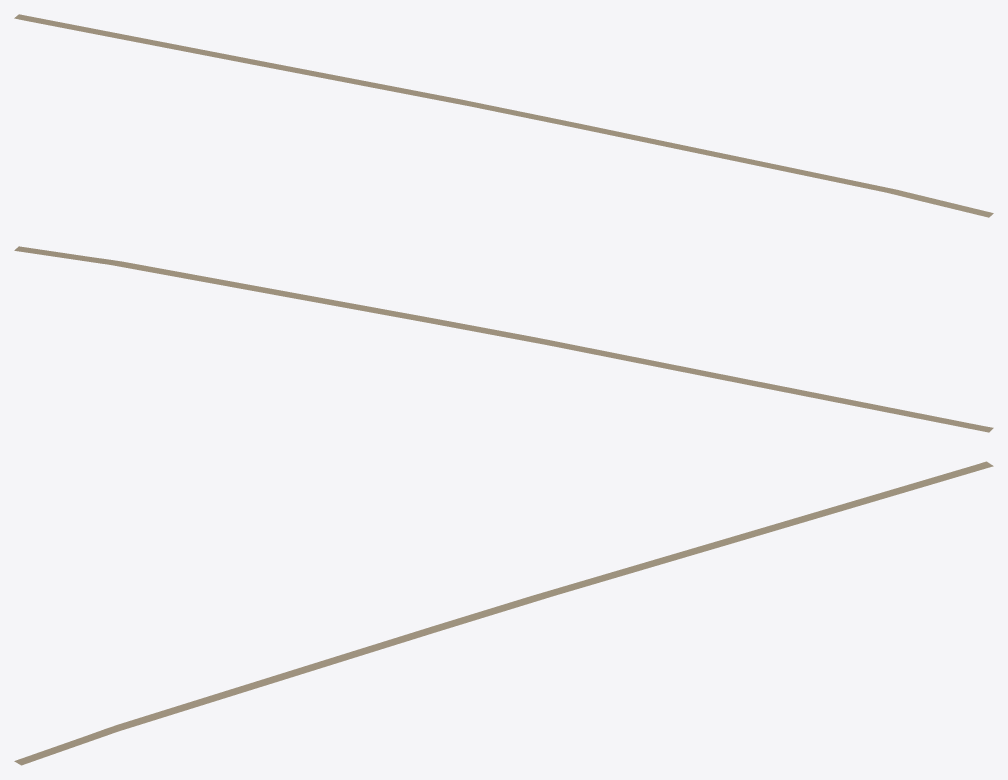
Rendered from farm_26_17_track.glb.
The picture shows the model from 3 angles, top to bottom: view 1: azimuth 30°, elevation 25°; view 2: azimuth 210°, elevation 25°; view 3: azimuth 270°, elevation 25°; orthographic projection. The views are drawn at different scales.
Parts seen in each view (by area): view 1: geometry_0; view 2: geometry_0; view 3: geometry_0.
Part boxes in pixels (bbox=[...]): geometry_0: bbox=[14, 14, 993, 217]; geometry_0: bbox=[14, 246, 993, 432]; geometry_0: bbox=[14, 461, 993, 765].
Bounding box in the file's own units: 178 × 3.09 × 250.
